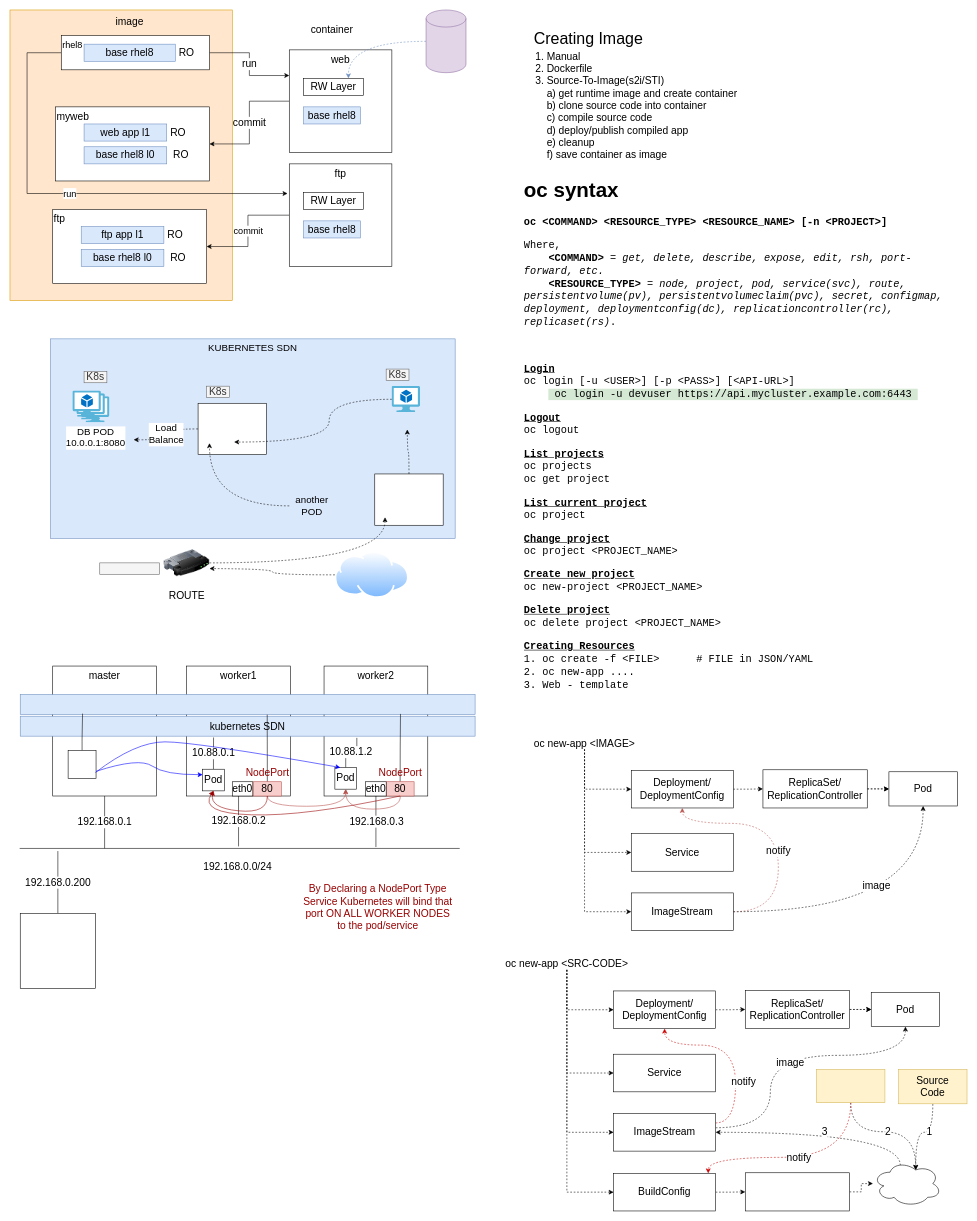
The diagram is 977 pixels wide and 1221 high, and some of its shapes have lost their labels. The centre of each missing label's shape, as x and y in pixels:
APP POD: the point at 406,399
app src code: the point at 446,41
Build: the point at 797,1191
Builder ImageStream: the point at 850,1086
Internet: the point at 372,574
kubernetes Service SDN: the point at 247,704
OpenShift: the point at 129,568
PC belonging to same DC: the point at 57,951
S2I: the point at 906,1183
SERVICE 192.168.0.1 :13306: the point at 232,429
SERVICE 192.168.0.1 :80: the point at 408,499
SVC: the point at 82,764
